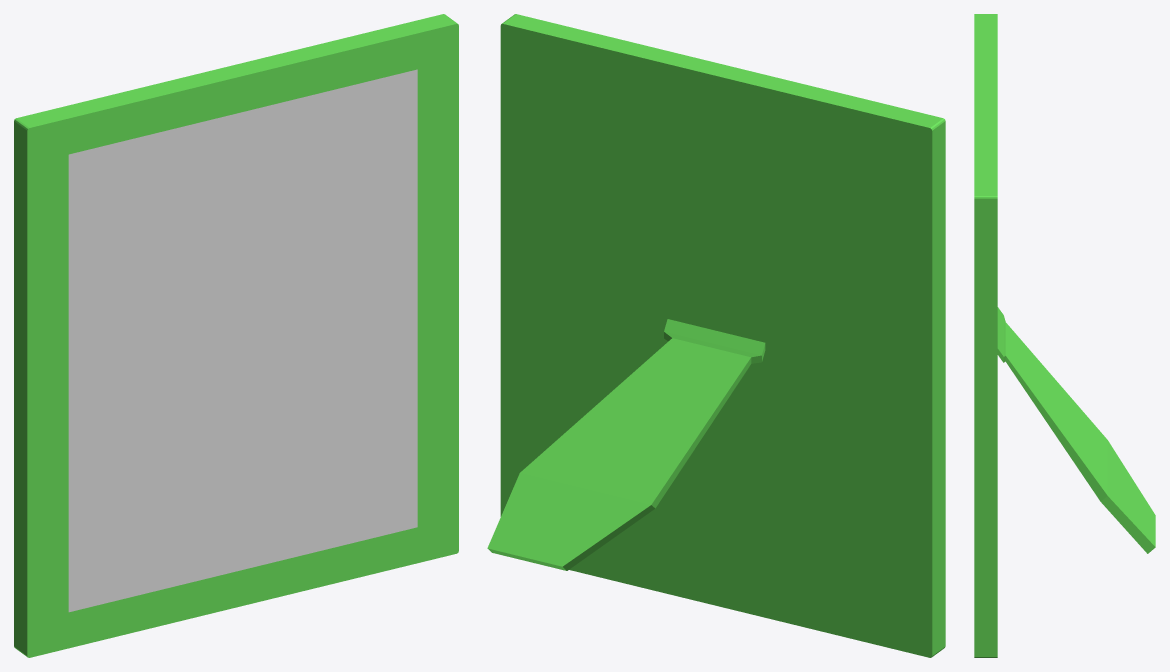
The model's file is picture_frame.fbx.
The picture shows the model from 3 angles, left to right: view 1: azimuth 30°, elevation 25°; view 2: azimuth 150°, elevation 25°; view 3: azimuth 270°, elevation 25°; orthographic projection. The views are drawn at different scales.
Parts seen in each view (by area): view 1: Cube; view 2: Cube; view 3: Cube.
Boxes of the visible parts, x1,y1,x2,y2 form: Cube: (14, 14, 458, 657); Cube: (487, 14, 945, 657); Cube: (974, 14, 1155, 657).
Bounding box in the file's own units: 79.62 × 93.43 × 33.26.
